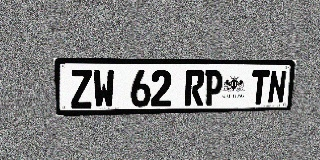2: (151, 69, 172, 107)
6: (131, 69, 151, 107)
N: (267, 70, 287, 104)
P: (203, 70, 223, 105)
R: (184, 70, 204, 106)
T: (250, 70, 270, 104)
W: (92, 69, 115, 108)
Z: (70, 69, 93, 108)
